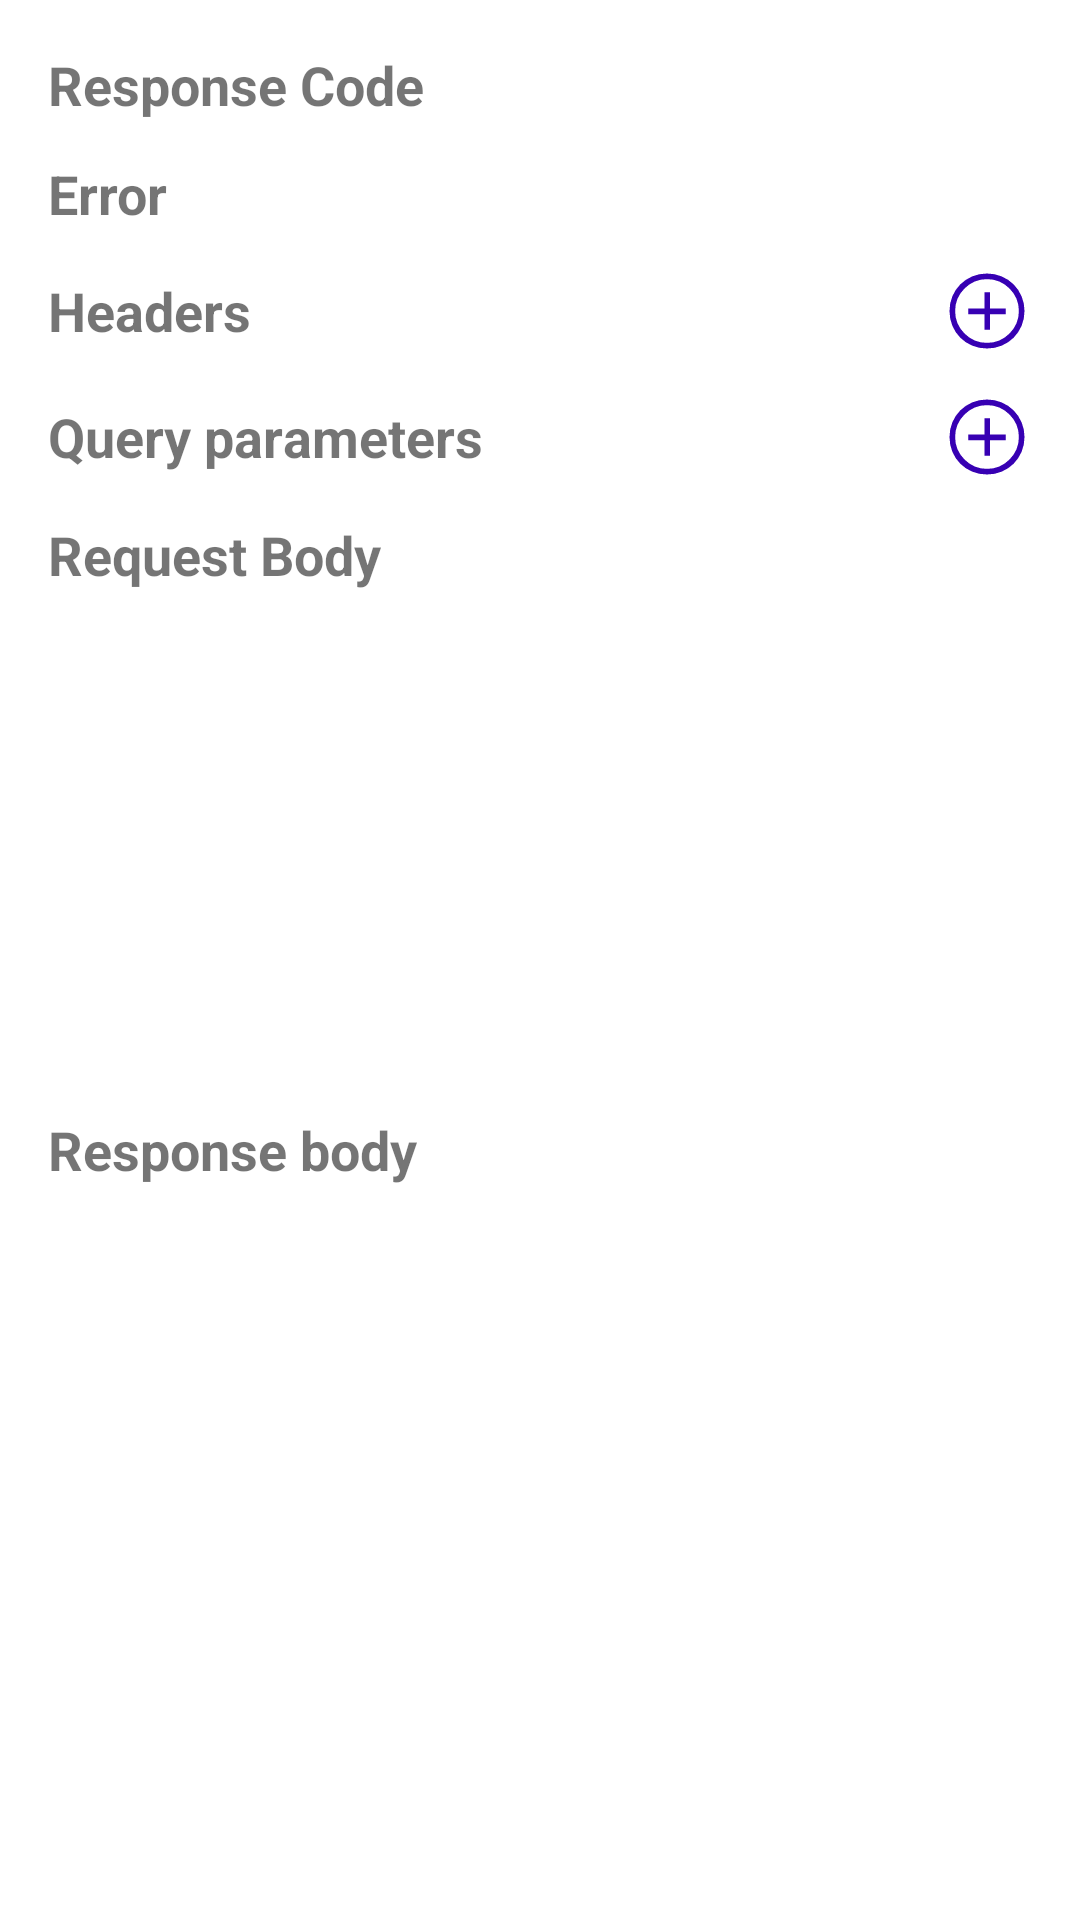

Screen size 1080 x 1920. Icon name, then its center in pixels as (x,y):
add: (987,311), (987,437)
